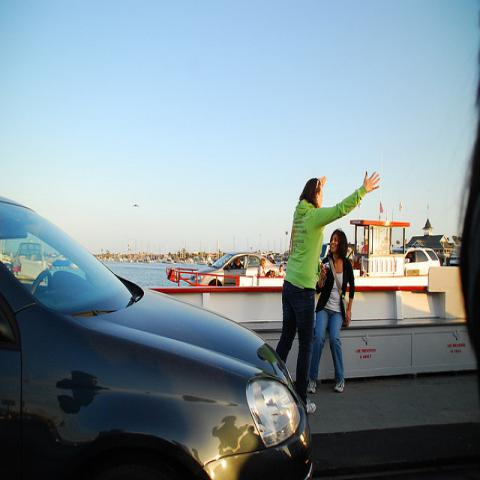car: (0, 192, 320, 479), (189, 250, 287, 288), (393, 247, 440, 275), (446, 246, 462, 266), (320, 244, 330, 261)
